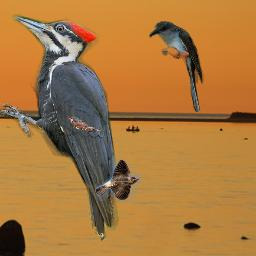Cuckoo: (149, 21, 204, 112), (66, 115, 105, 134)
Swallow: (95, 159, 141, 201)
Woodpecker: (0, 14, 125, 242)
